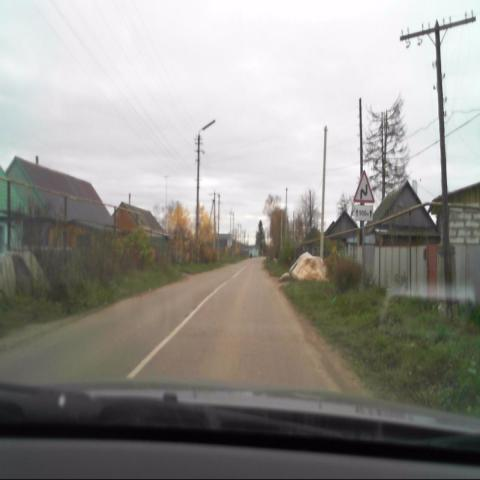1_12: (354, 170, 374, 202)
